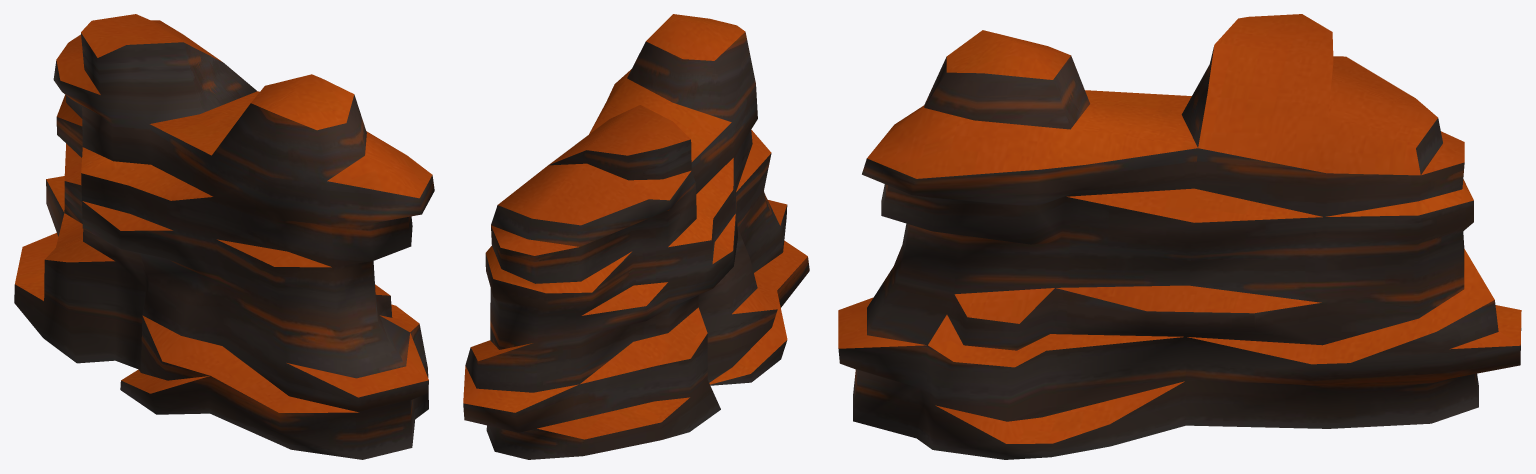
Rendered from Rock_walll01.FBX.
3 views of the same model, side by side, from view 1: azimuth 30°, elevation 25°; view 2: azimuth 150°, elevation 25°; view 3: azimuth 270°, elevation 25° (orthographic). The views are drawn at different scales.
Parts seen in each view (by area): view 1: Rock_wall01; view 2: Rock_wall01; view 3: Rock_wall01.
Boxes of the visible parts, box(x1,y1,x2,y2) form: Rock_wall01: box(14, 14, 434, 459); Rock_wall01: box(463, 14, 809, 459); Rock_wall01: box(838, 14, 1521, 459).
Bounding box in the file's own units: 54.57 × 71.53 × 122.
